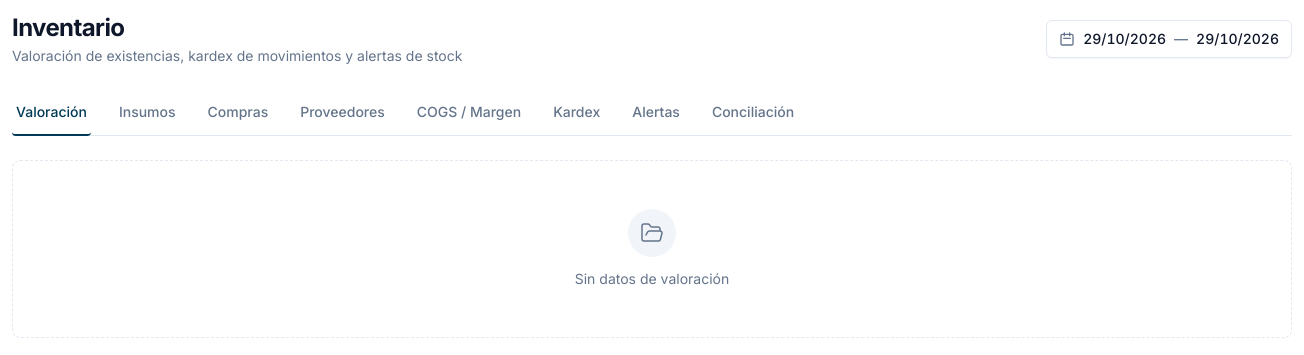
Test: W3 — InventoryPage error states › renders empty state on COGS tab when error
The image size is (1304, 355).
Click the tab "COGS / Margen" at (469, 113), box x1=413 y1=90 x2=525 y2=136
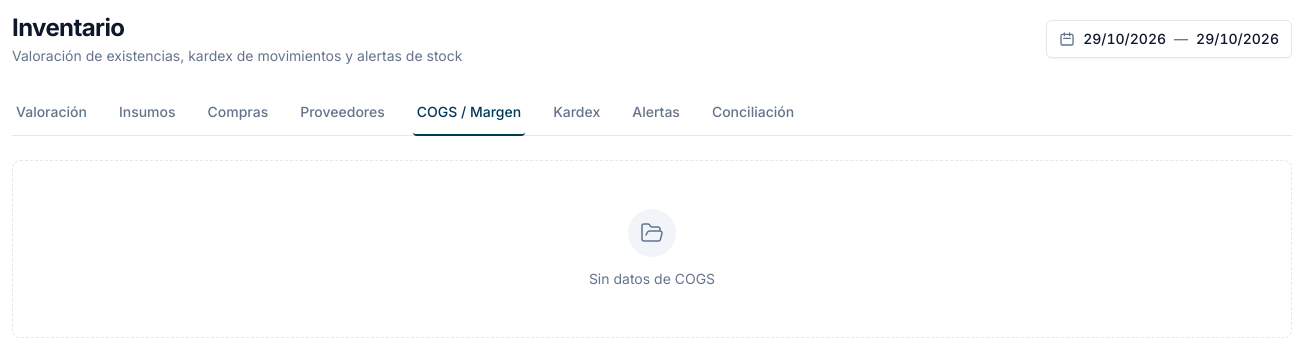
expect the text "Sin datos de COGS" is shown: met, box x1=589 y1=269 x2=715 y2=289
